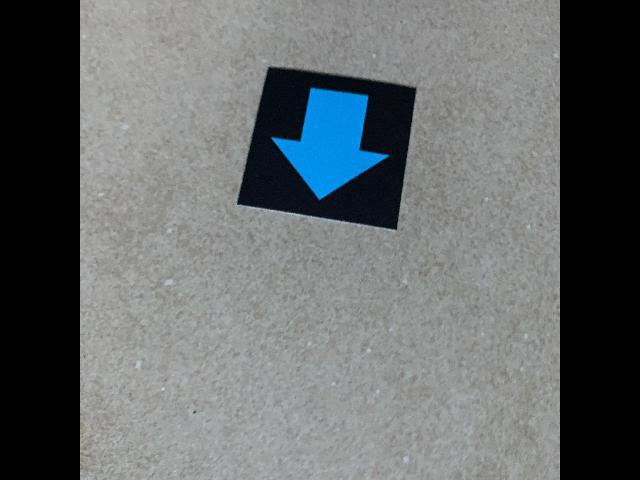down: (236, 64, 419, 234)
